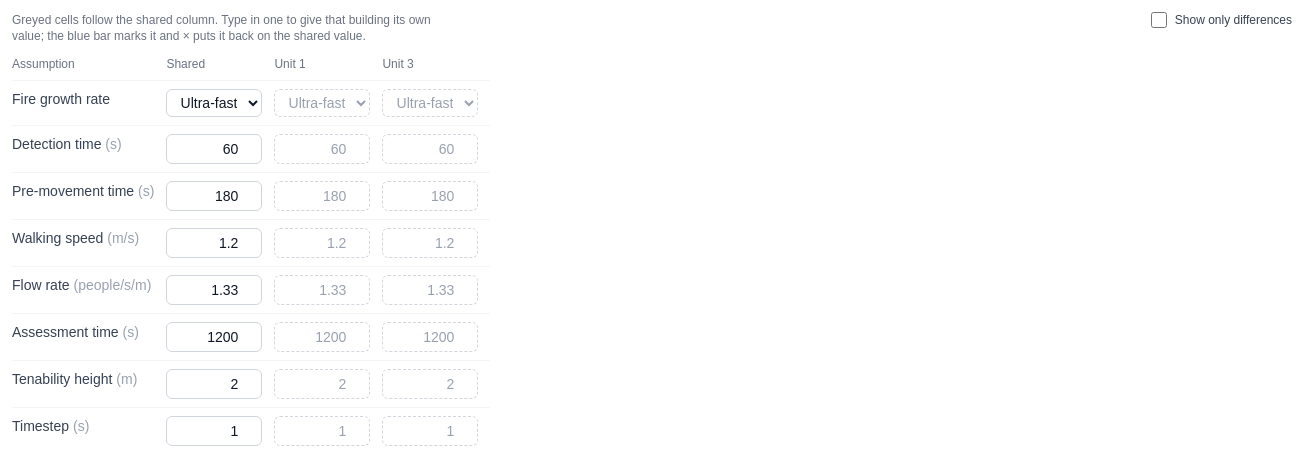
Test: AssumptionsMatrix › says so when nothing differs, instead of an empty table
The image size is (1304, 463).
Click the checkbox labelled "Show only differences".
click(1159, 20)  # box [1151, 12, 1167, 28]
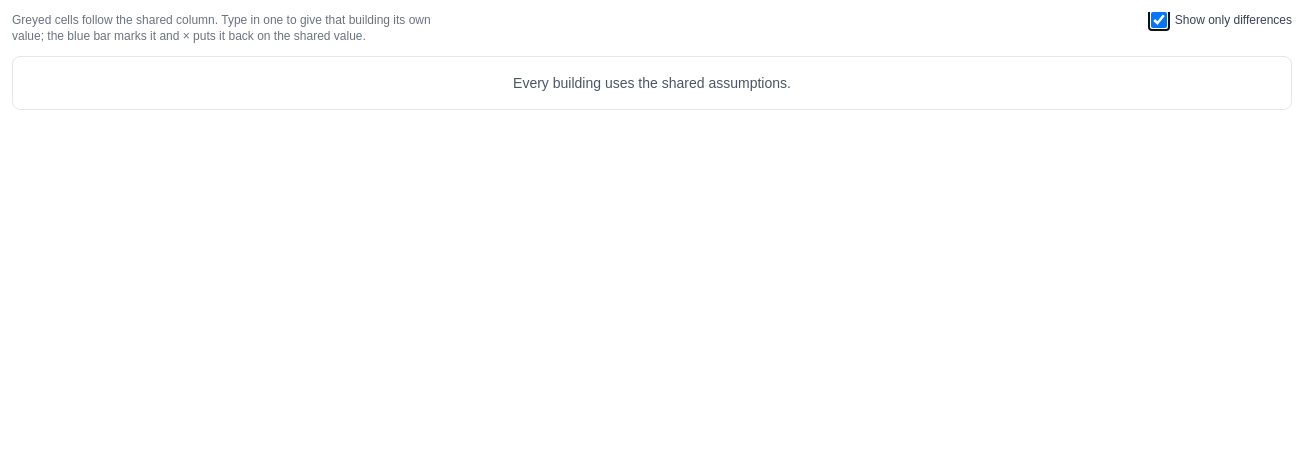
Expected: the text "Every building uses the shared assumptions." is shown, [12, 56, 1292, 110]
